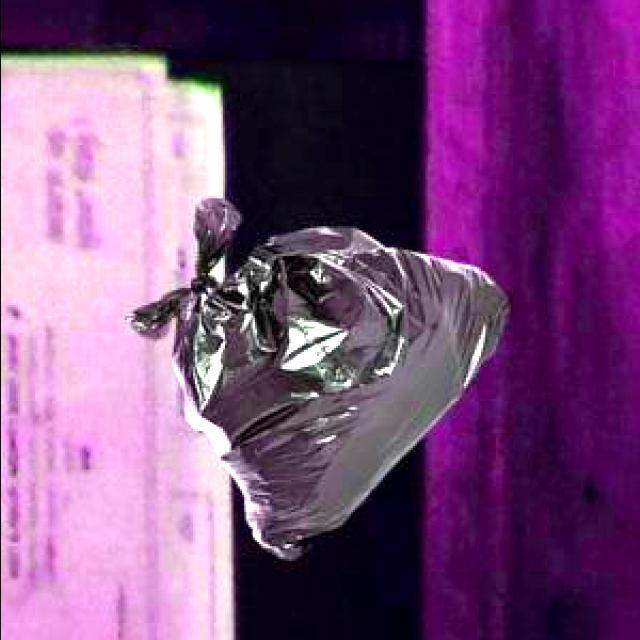Bolsa-de-nilon: (128, 198, 510, 562)
